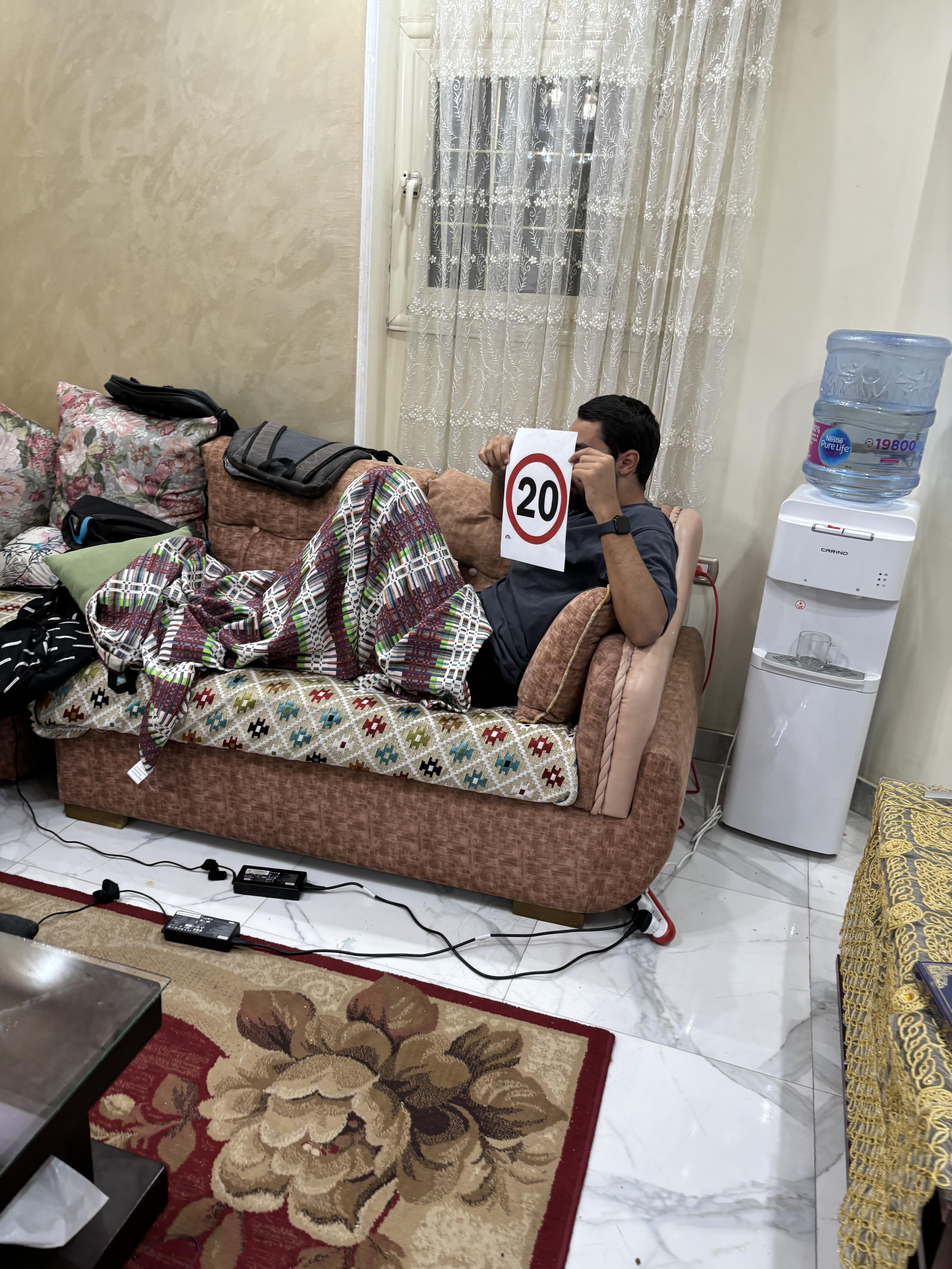20-Speed: (494, 449, 575, 552)
